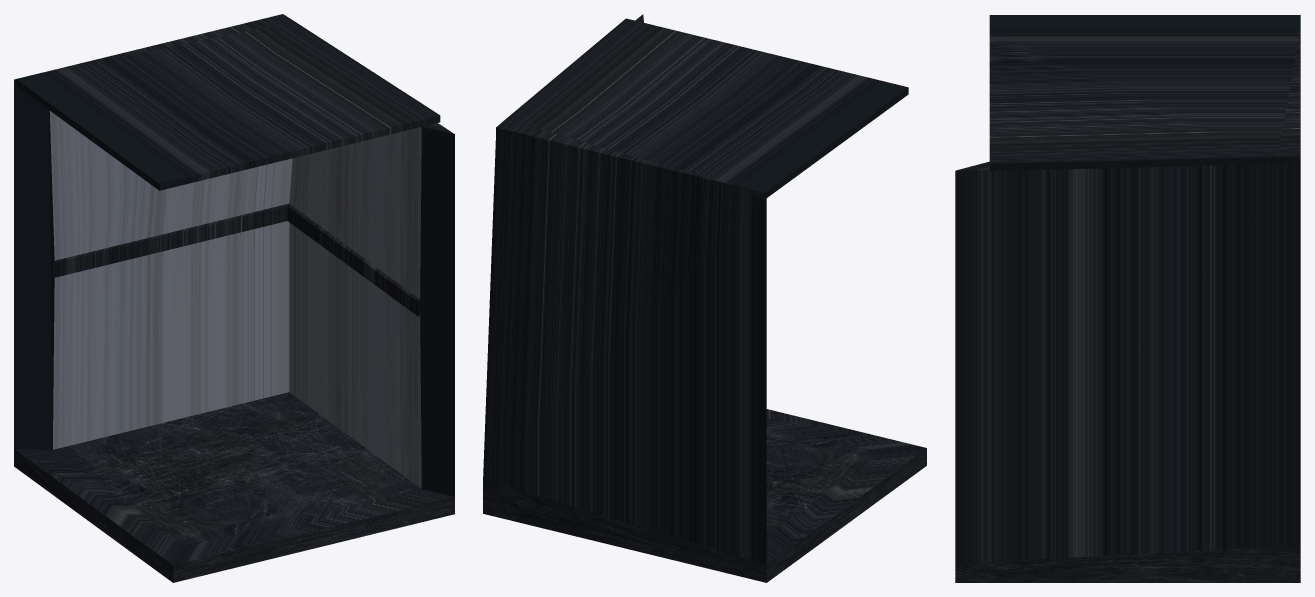
File: elevator001.fbx
3 views of the same model, side by side, from view 1: azimuth 30°, elevation 25°; view 2: azimuth 150°, elevation 25°; view 3: azimuth 270°, elevation 25° (orthographic). The views are drawn at different scales.
Parts seen in each view (by area): view 1: Box001; view 2: Box001; view 3: Box001.
Part boxes in pixels (x1,y1,x2,y2): Box001: (14, 14, 454, 582); Box001: (483, 14, 926, 582); Box001: (955, 14, 1300, 582).
Size of the model in its own units: 20.06 by 26.2 by 19.54.
Materials: 2 (2 with a texture image).
